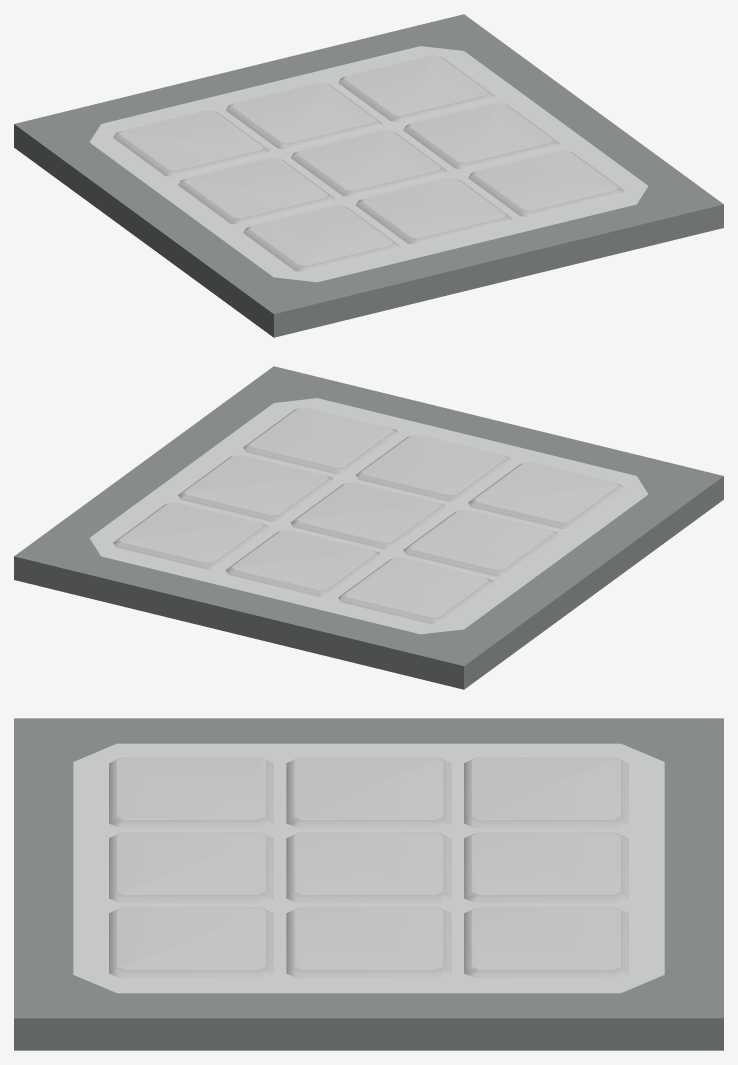
Rendered from Platform_004.fbx.
The picture shows the model from 3 angles, top to bottom: view 1: azimuth 30°, elevation 25°; view 2: azimuth 150°, elevation 25°; view 3: azimuth 270°, elevation 25°; orthographic projection. The views are drawn at different scales.
Visible parts, largest first — view 1: Platform_004; view 2: Platform_004; view 3: Platform_004.
Part boxes in pixels (bbox=[...]): Platform_004: bbox=[14, 14, 723, 337]; Platform_004: bbox=[14, 366, 723, 689]; Platform_004: bbox=[14, 718, 723, 1050].
Bounding box in the file's own units: 400 × 400 × 26.18.
